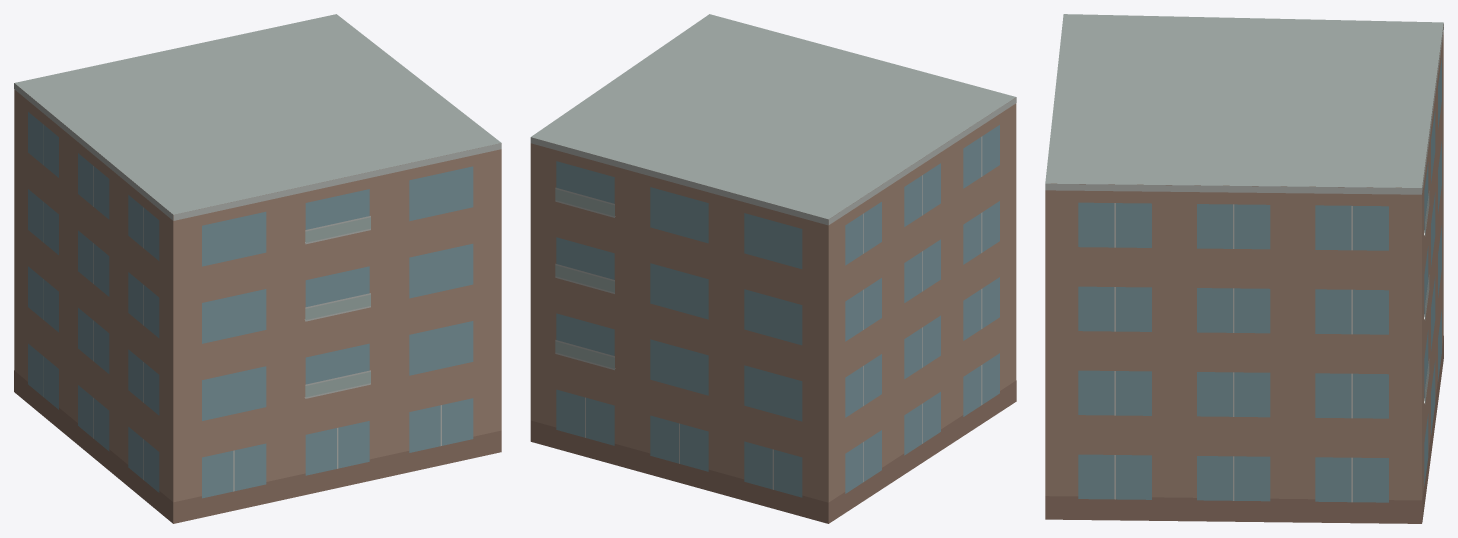
File: survey-upis-32576091.glb
3 views of the same model, side by side, from view 1: azimuth 30°, elevation 25°; view 2: azimuth 150°, elevation 25°; view 3: azimuth 270°, elevation 25° (orthographic). The views are drawn at different scales.
Parts seen in each view (by area): view 1: survey-upis-32576091.tmp; view 2: survey-upis-32576091.tmp; view 3: survey-upis-32576091.tmp.
Boxes of the visible parts, x1,y1,x2,y2 form: survey-upis-32576091.tmp: (14,14,501,523); survey-upis-32576091.tmp: (530,14,1016,523); survey-upis-32576091.tmp: (1045,14,1443,523).
Bounding box in the file's own units: 13.57 × 12.2 × 13.13.
